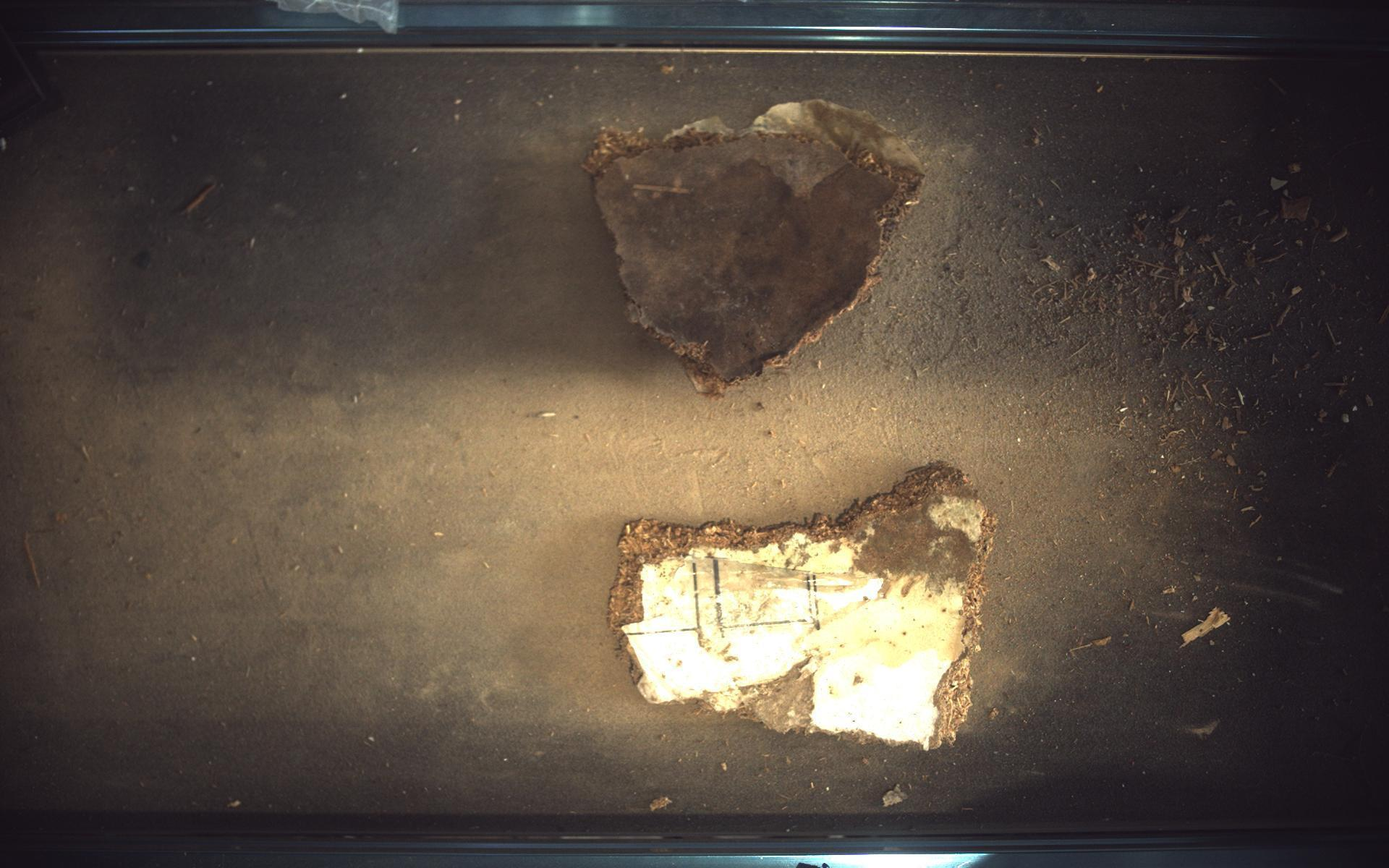wood: (610, 462, 998, 750), (584, 98, 925, 396)
